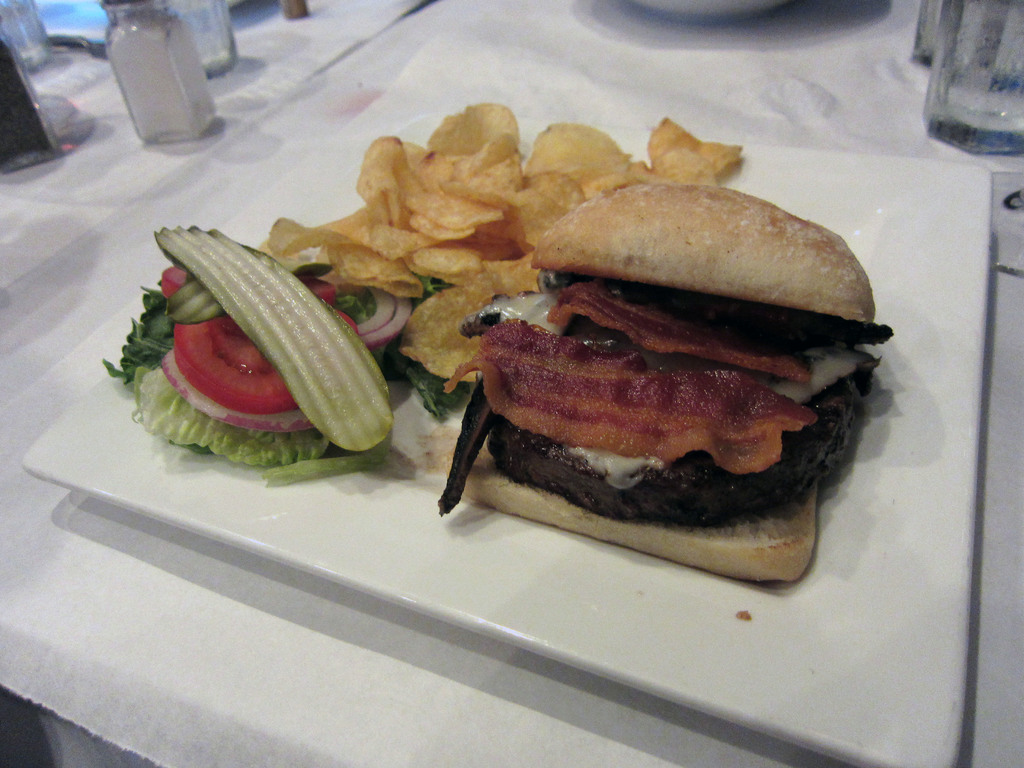Hamburger: (419, 182, 895, 581)
